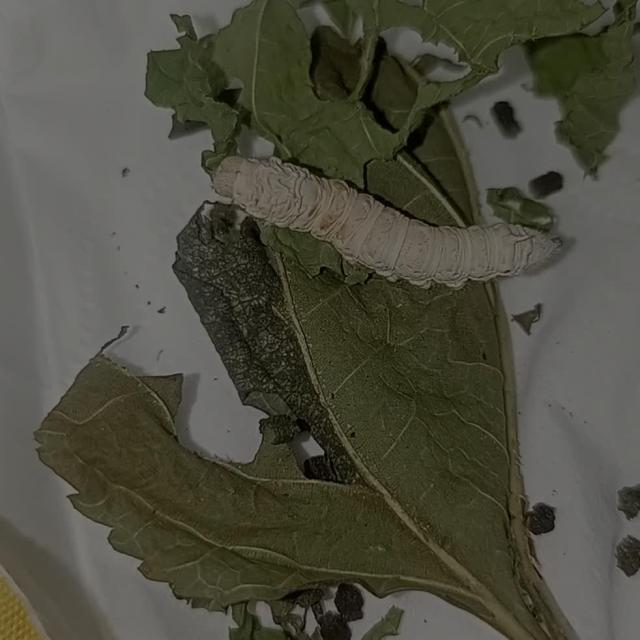Healthy: (201, 119, 595, 332)
